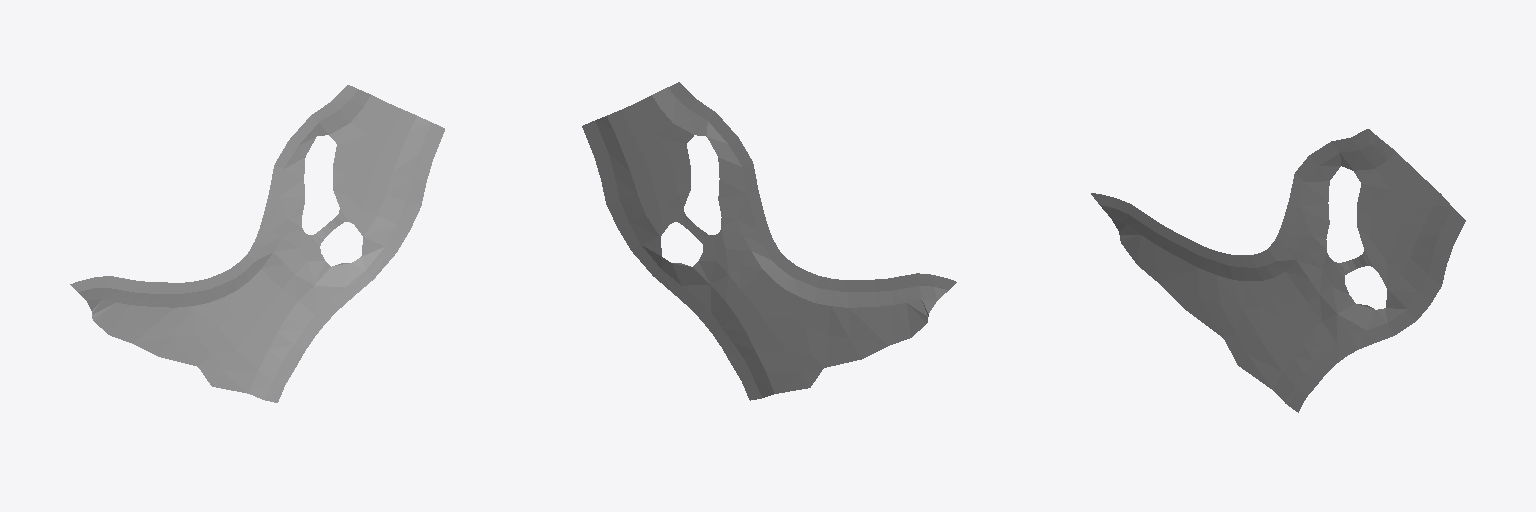
Rendered from polygon132.obj.
3 renders of one model, left to right at view 1: azimuth 30°, elevation 25°; view 2: azimuth 150°, elevation 25°; view 3: azimuth 330°, elevation 25°, orthographic.
Visible parts, largest first — view 1: polygon132; view 2: polygon132; view 3: polygon132.
Part boxes in pixels (bbox=[...]): polygon132: bbox=[70, 85, 444, 402]; polygon132: bbox=[582, 82, 956, 400]; polygon132: bbox=[1091, 129, 1465, 412].
Bounding box in the file's own units: 6281 × 4819 × 103.